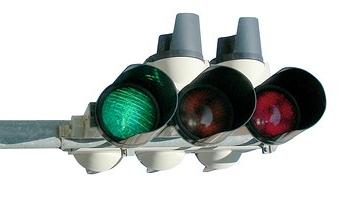trafic: (86, 55, 324, 157)
